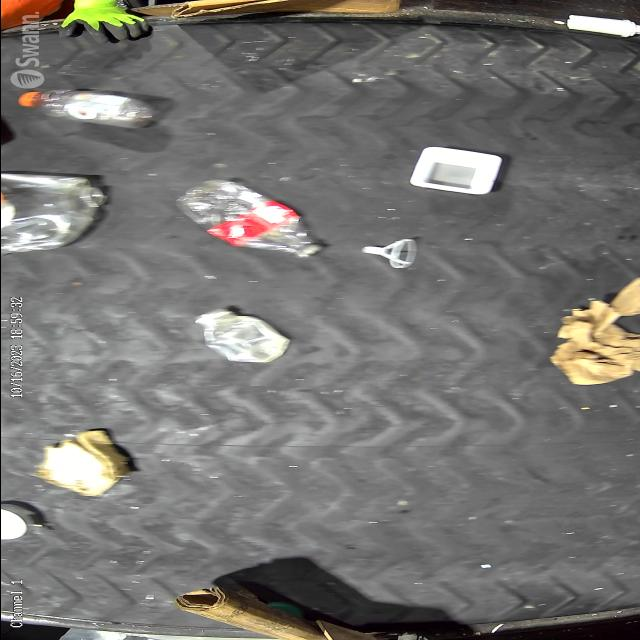can: (0, 503, 41, 540)
non_white_jug: (0, 172, 108, 252)
plastic_bottle: (175, 178, 323, 257), (16, 88, 154, 130)
